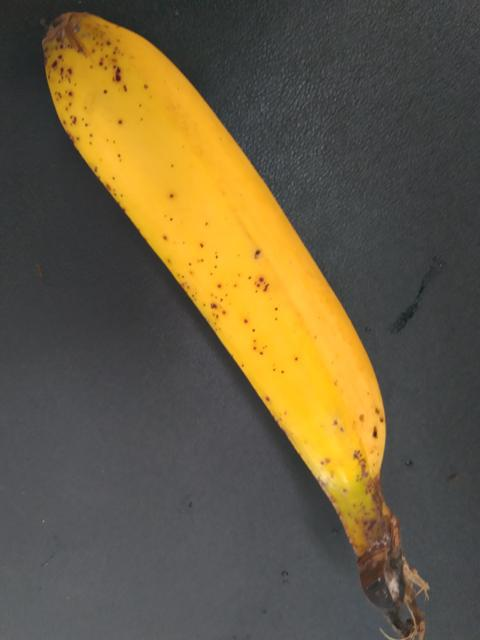ripe: (46, 27, 378, 518)
